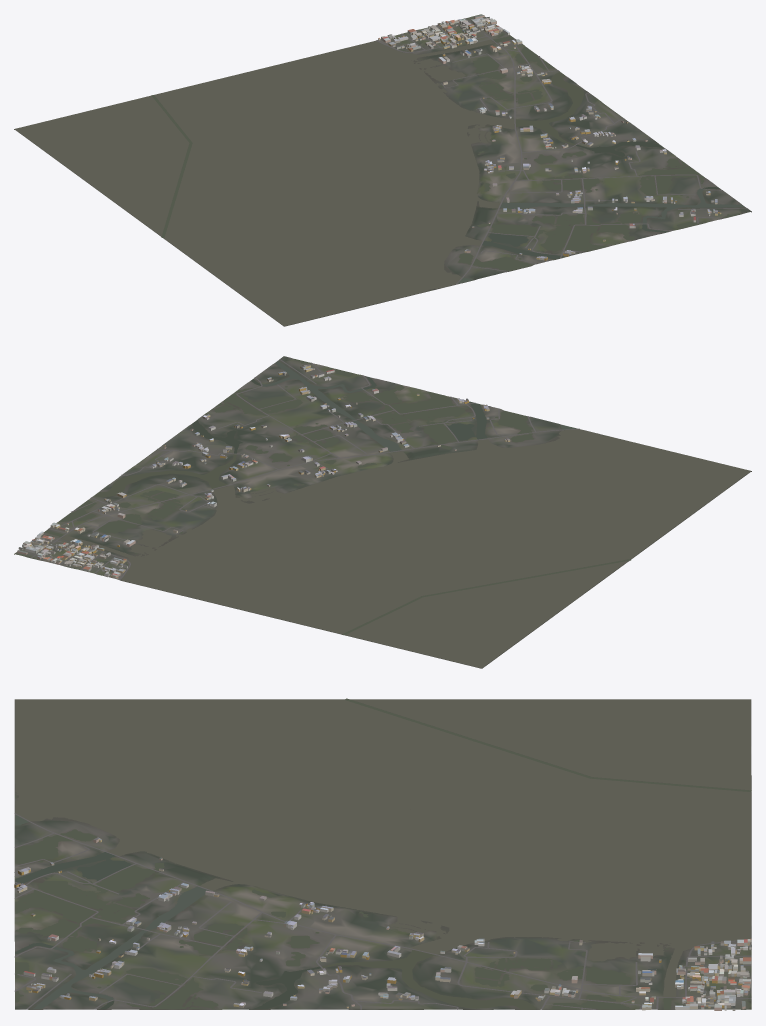
The picture shows the model from 3 angles, top to bottom: view 1: azimuth 30°, elevation 25°; view 2: azimuth 150°, elevation 25°; view 3: azimuth 270°, elevation 25°; orthographic projection. The views are drawn at different scales.
Parts seen in each view (by area): view 1: water, ground, buildings, roads; view 2: water, ground, buildings, roads; view 3: water, ground, buildings, roads.
Part boxes in pixels (<box>): water: <box>15,17,744,326</box>; ground: <box>14,14,751,326</box>; buildings: <box>378,14,721,260</box>; roads: <box>376,18,747,284</box>; water: <box>27,359,750,668</box>; ground: <box>14,356,751,668</box>; buildings: <box>17,364,510,579</box>; roads: <box>31,359,579,579</box>; water: <box>15,698,751,1009</box>; ground: <box>14,699,751,1009</box>; buildings: <box>14,837,751,1010</box>; roads: <box>14,813,751,1009</box>.
Size of the model in its own units: 1410 by 14.37 by 1403.
